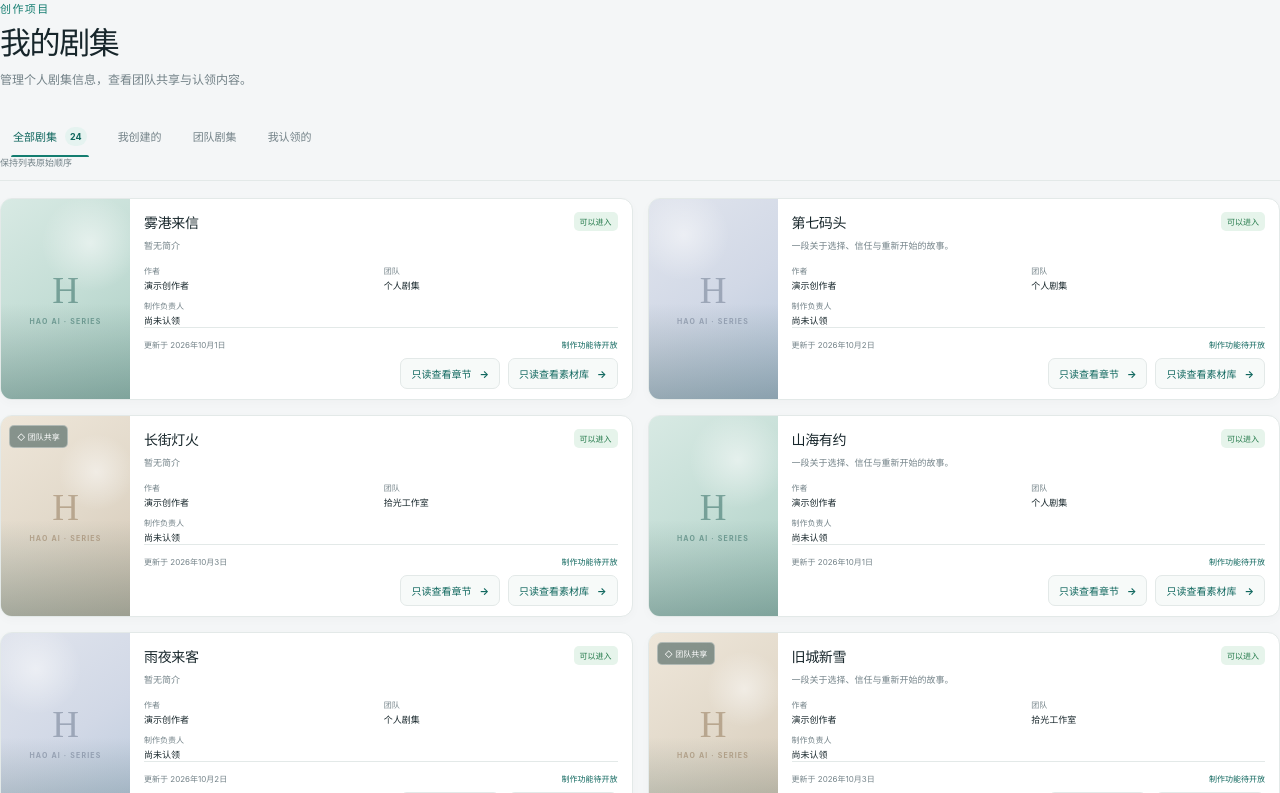
SeriesPage list behavior › shows an empty filtered category without treating a shared list as empty
The image size is (1280, 793).
Click the button "我认领的": click(290, 136) left=255, top=116, right=325, bottom=156
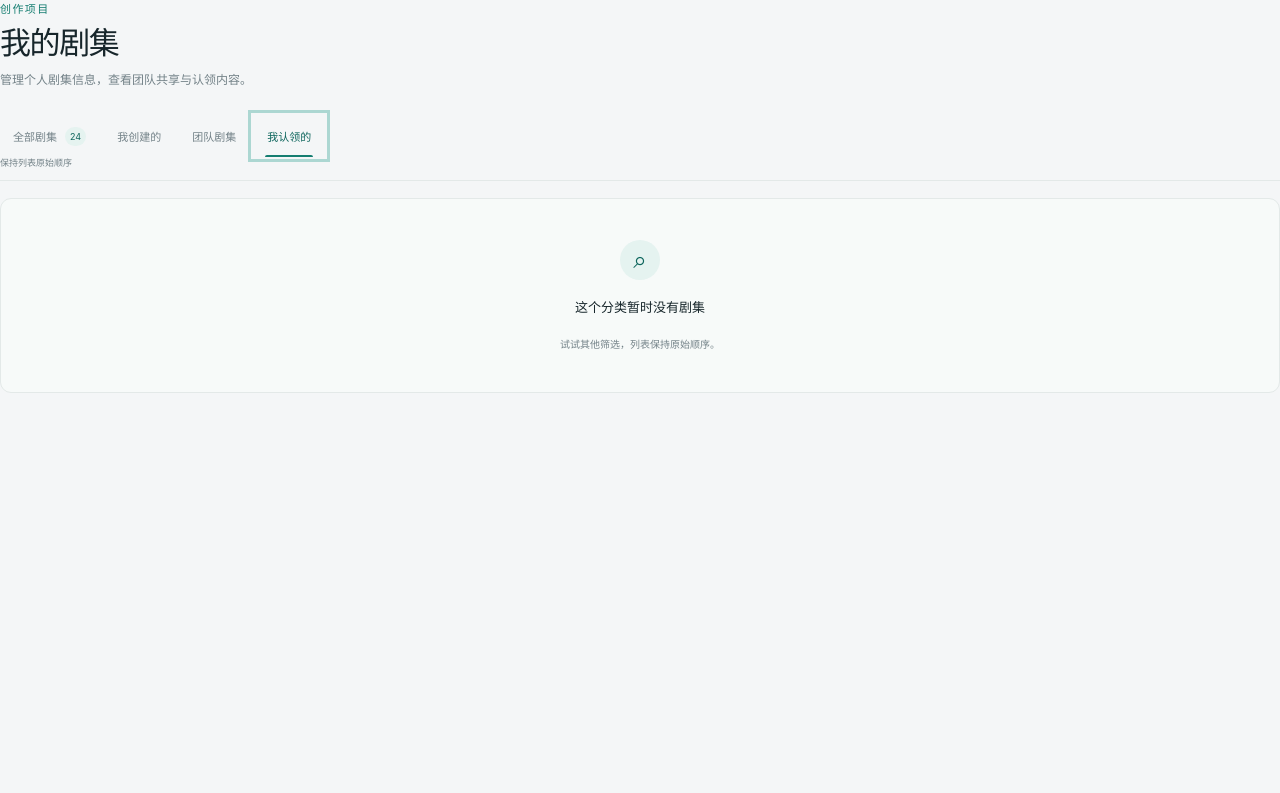
Expected: the heading "这个分类暂时没有剧集" is shown, left=575, top=297, right=705, bottom=316
Expected: the text "试试其他筛选，列表保持原始顺序。" is shown, left=560, top=336, right=720, bottom=352
